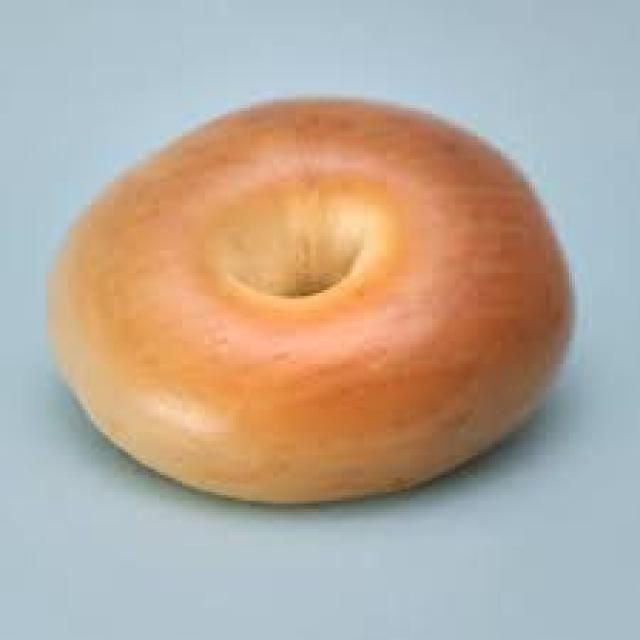Bagel: (48, 99, 569, 502)
